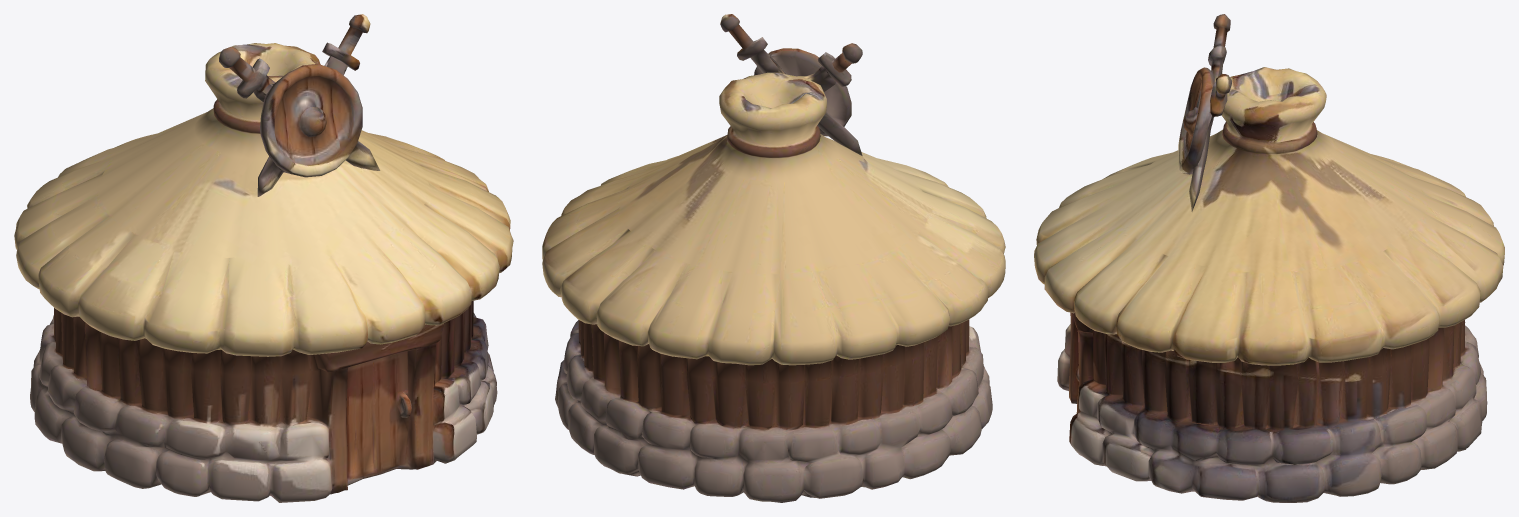
The model's file is caserne-jeu-QVYZOZML.glb.
The picture shows the model from 3 angles, left to right: view 1: azimuth 30°, elevation 25°; view 2: azimuth 150°, elevation 25°; view 3: azimuth 270°, elevation 25°; orthographic projection. The views are drawn at different scales.
Parts seen in each view (by area): view 1: caserne; view 2: caserne; view 3: caserne.
Part boxes in pixels (x1,y1,x2,y2): caserne: (14,14,513,502); caserne: (542,14,1005,502); caserne: (1034,14,1504,502).
Bounding box in the file's own units: 5.78 × 5 × 5.75.
Materials: 1 (1 with a texture image).
